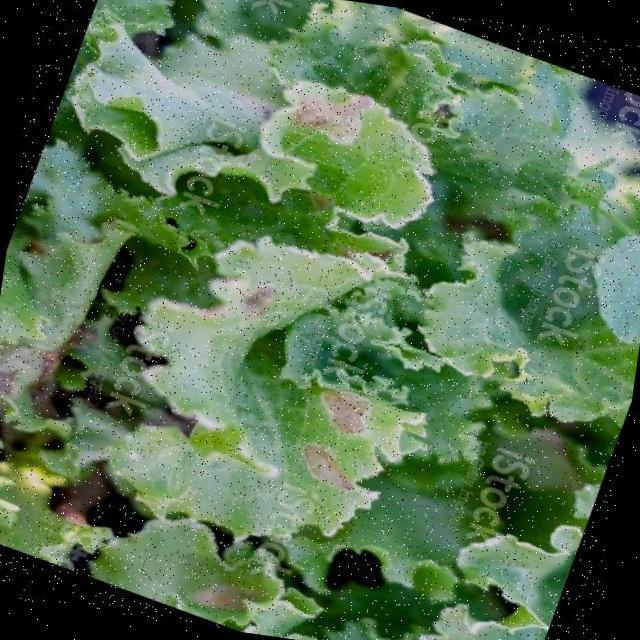Bacterial: (121, 213, 441, 576), (236, 59, 461, 238)
